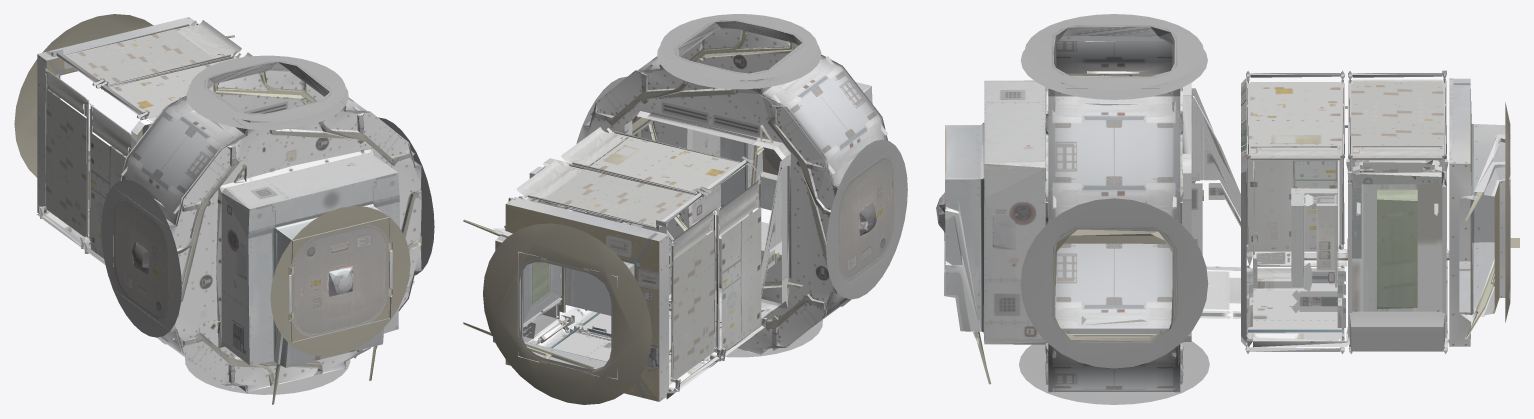
3 renders of one model, left to right at view 1: azimuth 30°, elevation 25°; view 2: azimuth 150°, elevation 25°; view 3: azimuth 270°, elevation 25°, orthographic. The views are drawn at different scales.
Parts seen in each view (by area): view 1: Node3_Int__Bulkhead_SBD; view 2: Node3_Int__Bulkhead_SBD; view 3: Node3_Int__Bulkhead_SBD.
Part boxes in pixels (x1=…): Node3_Int__Bulkhead_SBD: x1=14, y1=14, x2=434, y2=404; Node3_Int__Bulkhead_SBD: x1=463, y1=14, x2=907, y2=404; Node3_Int__Bulkhead_SBD: x1=936, y1=14, x2=1519, y2=404.
Size of the model in its own units: 3.24 by 5.35 by 3.24.
Materials: 6 (6 with a texture image).
